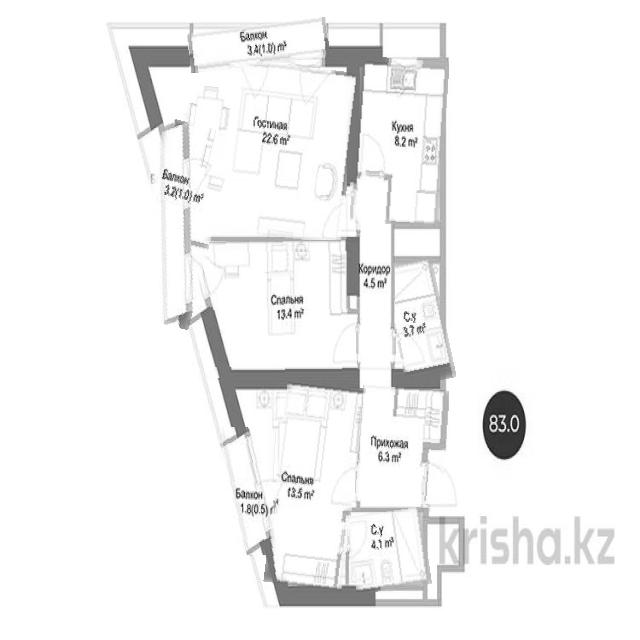balcony: (188, 21, 330, 69), (222, 428, 270, 555), (164, 122, 191, 324)
bathroom: (387, 258, 450, 386), (349, 510, 429, 592)
hallway: (357, 387, 448, 503), (358, 226, 395, 388)
kitchen: (350, 58, 447, 226)
living_room: (175, 58, 356, 240), (210, 240, 357, 378), (269, 380, 360, 590)
